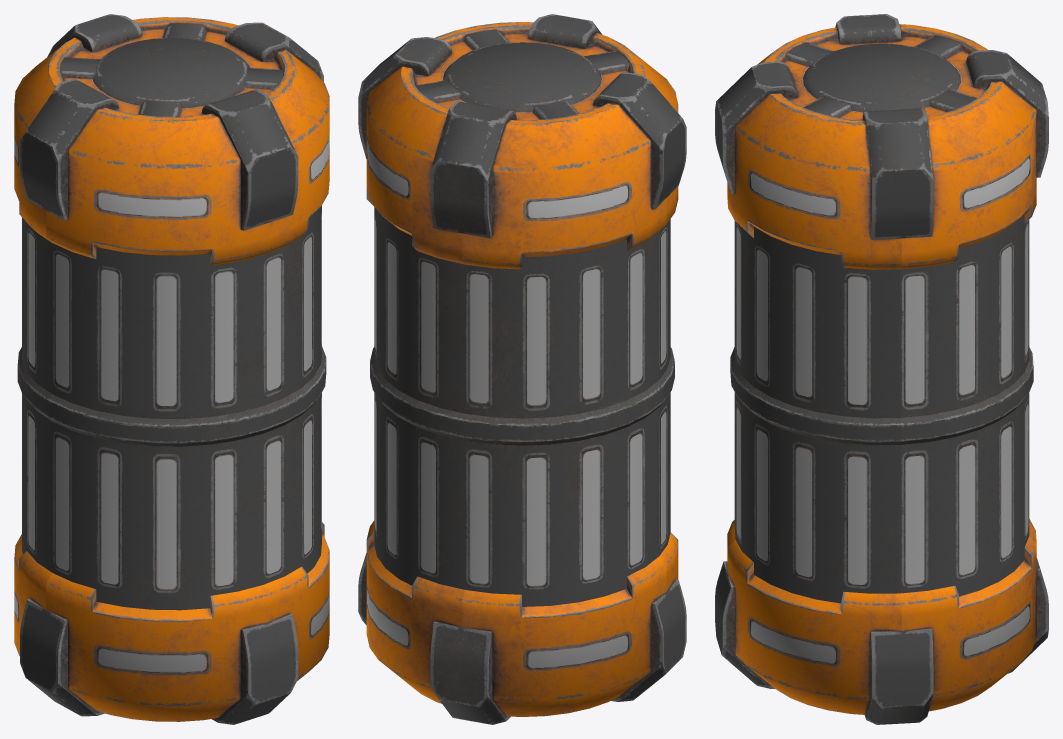
File: misc-item-3.glb
The picture shows the model from 3 angles, left to right: view 1: azimuth 30°, elevation 25°; view 2: azimuth 150°, elevation 25°; view 3: azimuth 270°, elevation 25°; orthographic projection.
Parts seen in each view (by area): view 1: Sci-fi_Barel_Game.001; view 2: Sci-fi_Barel_Game.001; view 3: Sci-fi_Barel_Game.001.
Boxes of the visible parts, box(x1,y1,x2,y2) form: Sci-fi_Barel_Game.001: box(14, 14, 329, 724); Sci-fi_Barel_Game.001: box(358, 14, 686, 724); Sci-fi_Barel_Game.001: box(715, 14, 1048, 724).
Size of the model in its own units: 1.17 by 2.33 by 1.17.
Materials: 1 (1 with a texture image).
